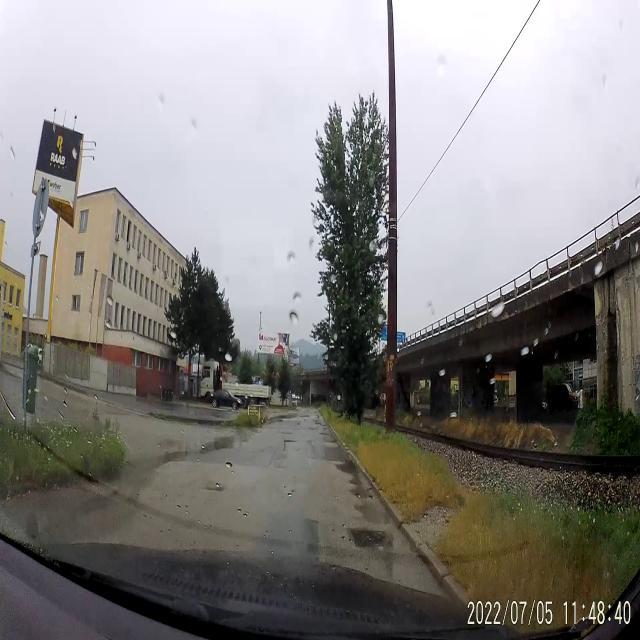Manhole: (348, 518, 391, 556)
Pothole: (202, 482, 227, 496), (283, 436, 296, 454), (318, 429, 331, 438)
